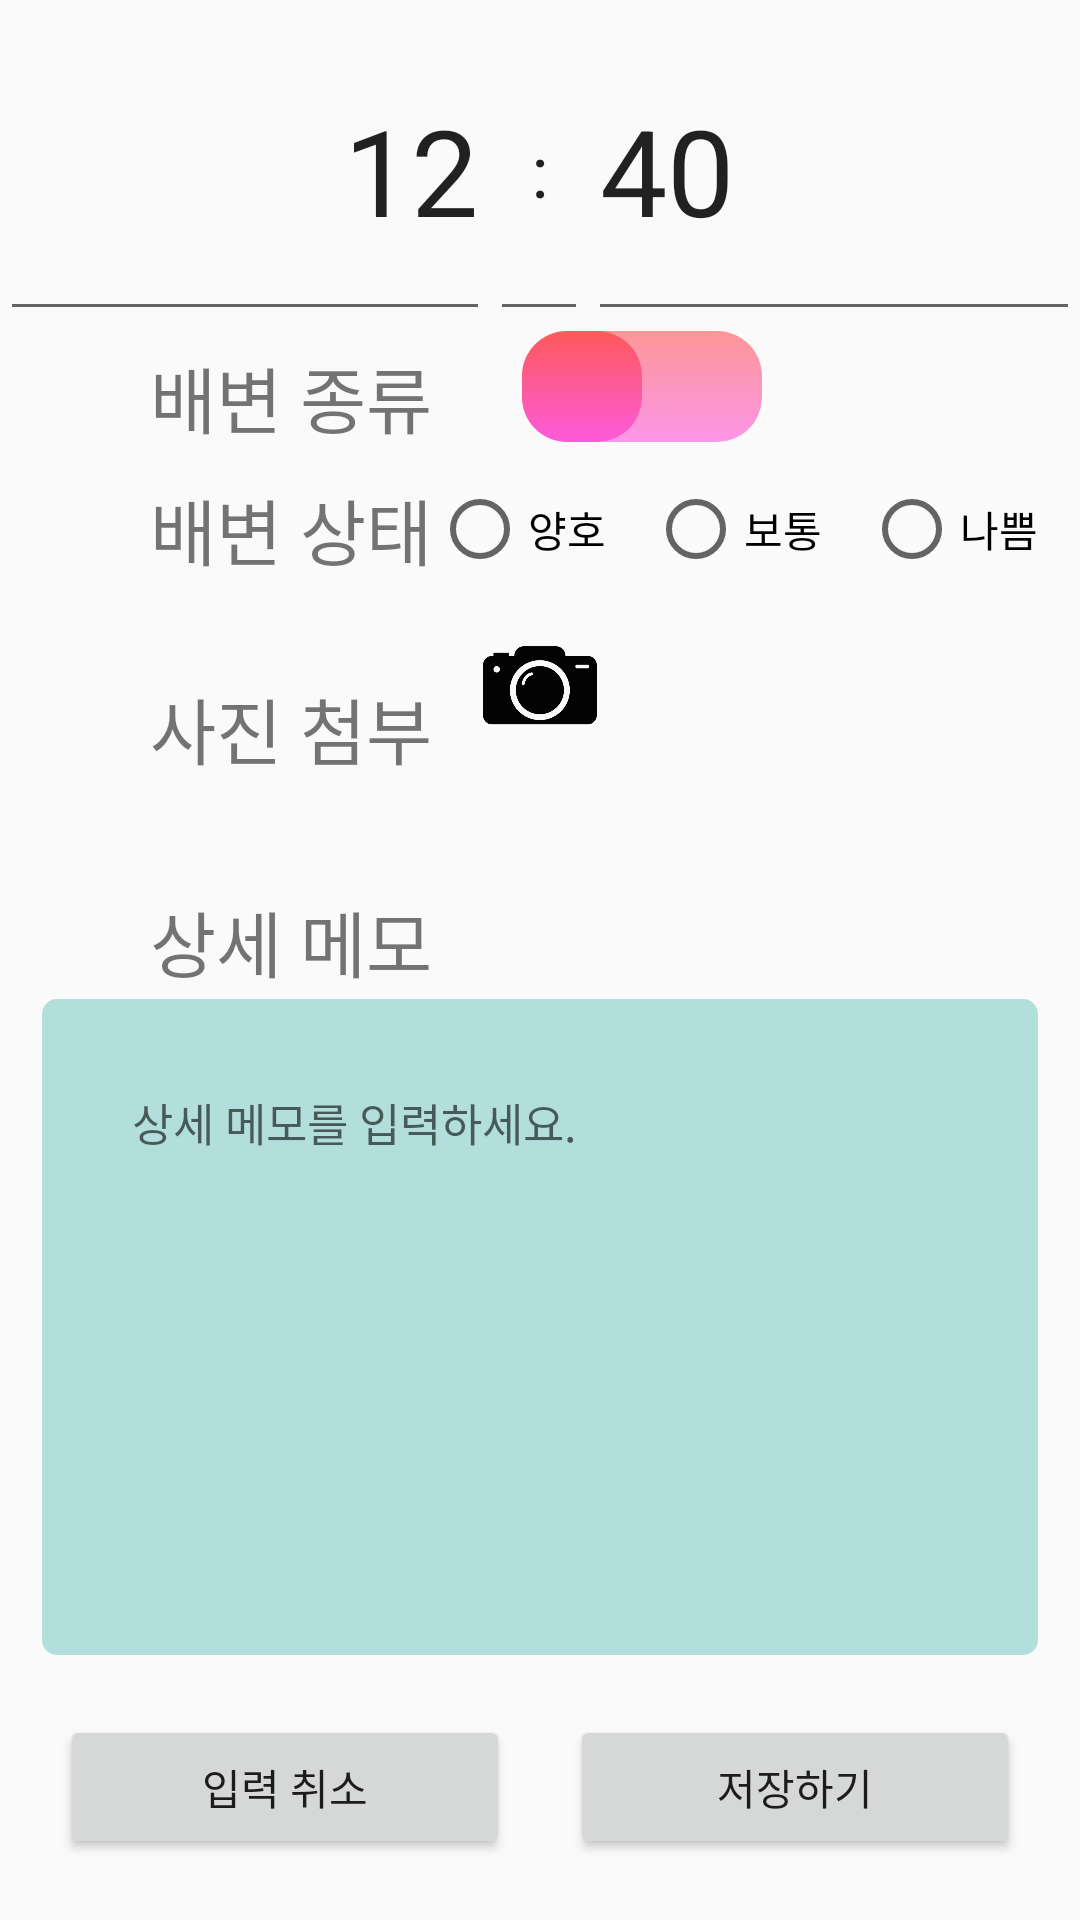

Icons on this 1080w x 1920h Android screen, each with its box as [x1=x1, y1=y1, x2=x2, y2=y2]:
camera: [x1=483, y1=646, x2=597, y2=725]
